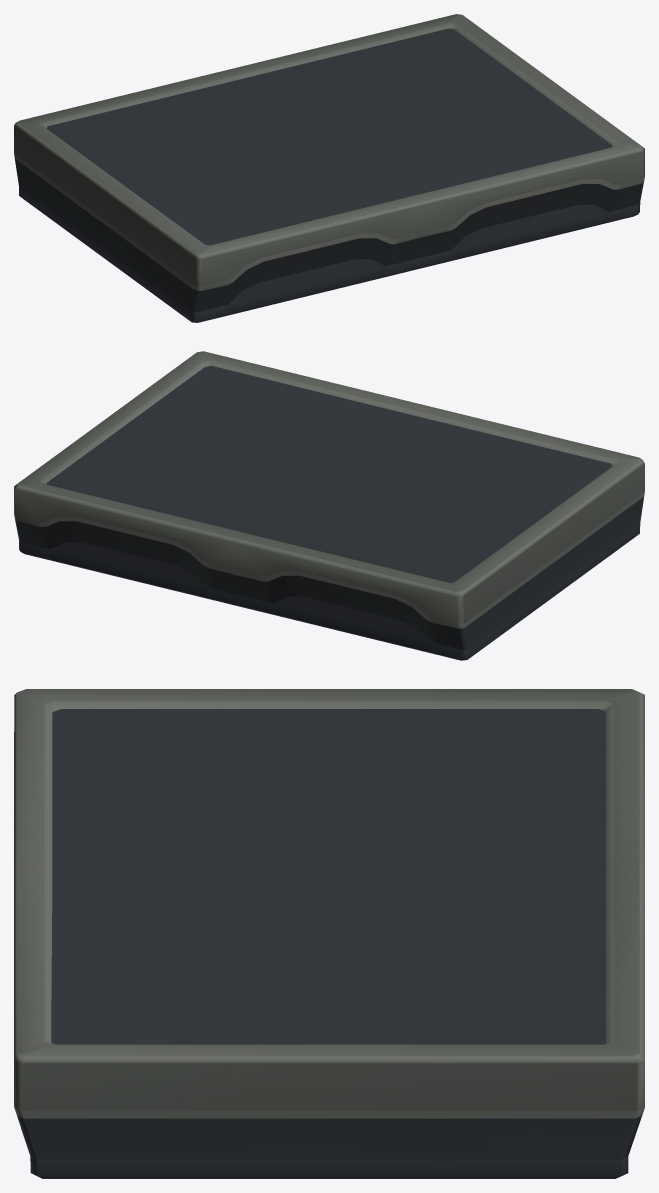
File: appartment_type1_roof_type1_x6_flat_black.fbx
3 views of the same model, one above another, from view 1: azimuth 30°, elevation 25°; view 2: azimuth 150°, elevation 25°; view 3: azimuth 270°, elevation 25° (orthographic). The views are drawn at different scales.
Visible parts, largest first — view 1: appartment_type1_roof_type1_x6_flat_black; view 2: appartment_type1_roof_type1_x6_flat_black; view 3: appartment_type1_roof_type1_x6_flat_black.
Part boxes in pixels (x1,y1,x2,y2): appartment_type1_roof_type1_x6_flat_black: (14,14,644,322); appartment_type1_roof_type1_x6_flat_black: (14,351,644,660); appartment_type1_roof_type1_x6_flat_black: (14,689,644,1178).
Bounding box in the file's own units: 1210 × 186 × 867.
